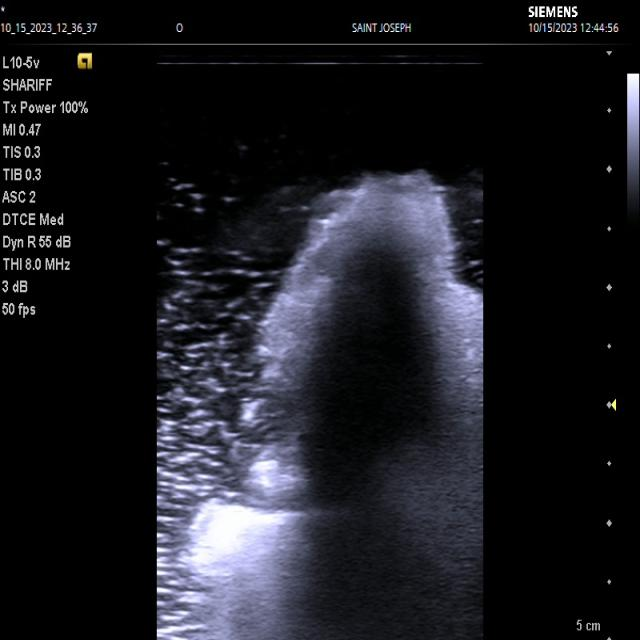tissue: (179, 173, 482, 640)
